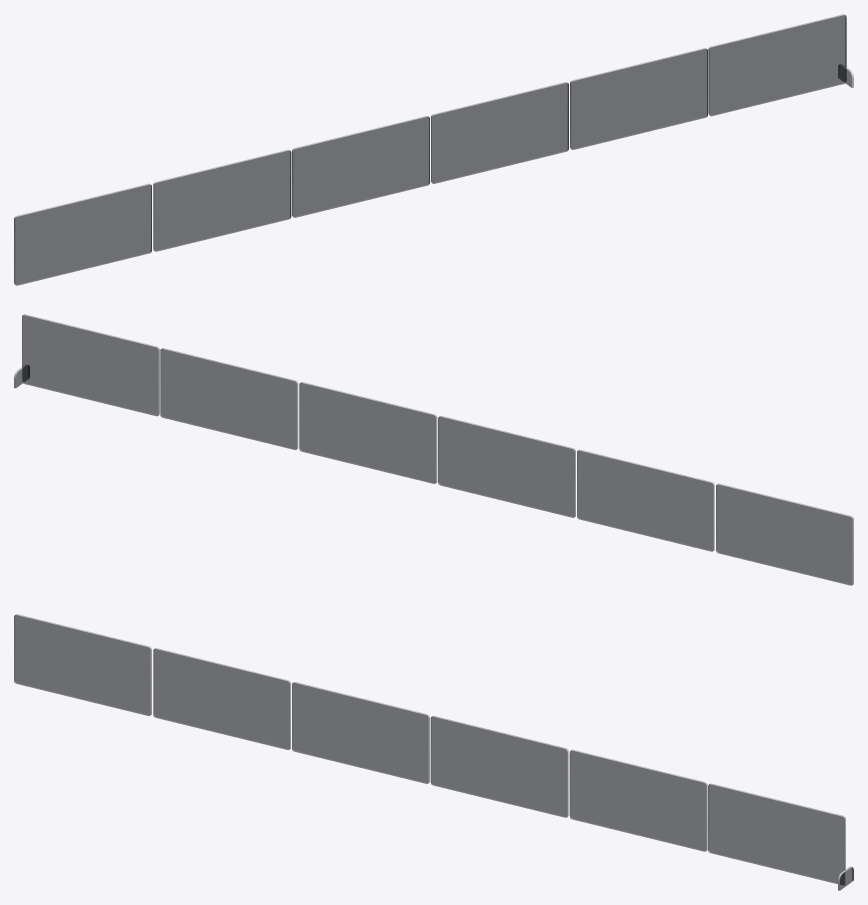
Rendered from ShelfDividerTransparent02.fbx.
The picture shows the model from 3 angles, top to bottom: view 1: azimuth 30°, elevation 25°; view 2: azimuth 150°, elevation 25°; view 3: azimuth 330°, elevation 25°; orthographic projection.
Visible parts, largest first — view 1: ShelfDividerTransparent02; view 2: ShelfDividerTransparent02; view 3: ShelfDividerTransparent02.
Boxes of the visible parts, x1,y1,x2,y2 form: ShelfDividerTransparent02: (14,14,853,285); ShelfDividerTransparent02: (14,314,853,585); ShelfDividerTransparent02: (14,614,853,890).
Size of what is drawn, in the model's own units: 63.26 by 1.86 by 5.
2 materials, 1 textured.
